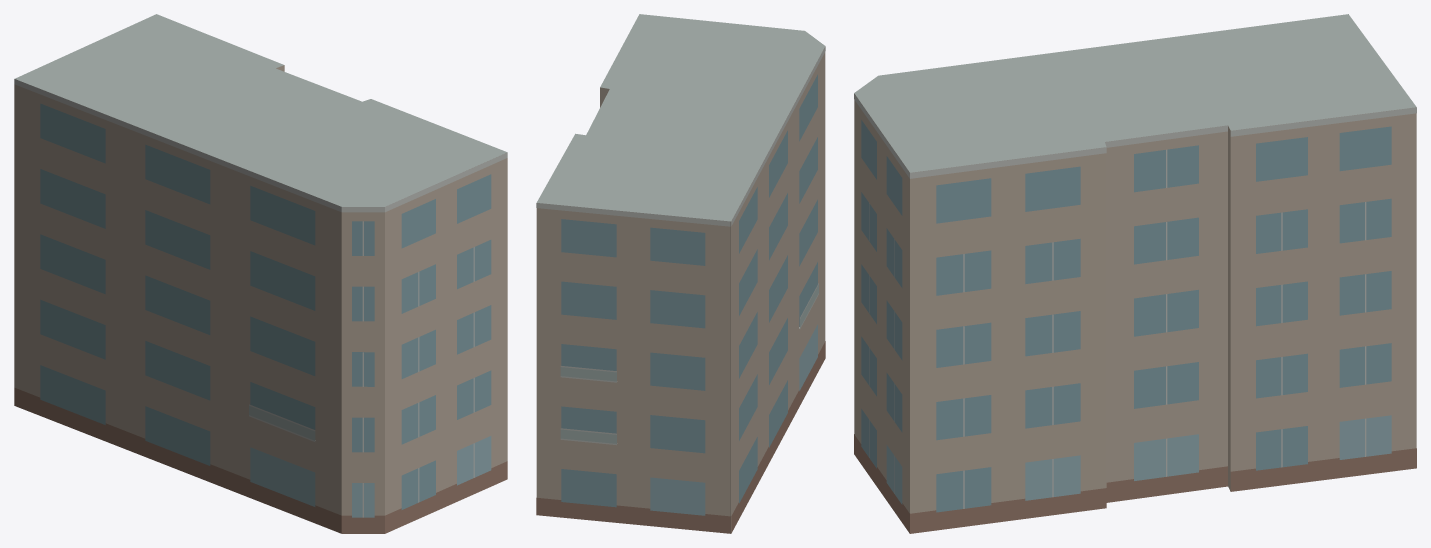
The model's file is survey-upis-32620755.glb.
3 renders of one model, left to right at view 1: azimuth 30°, elevation 25°; view 2: azimuth 150°, elevation 25°; view 3: azimuth 270°, elevation 25°, orthographic. The views are drawn at different scales.
Visible parts, largest first — view 1: survey-upis-32620755.tmp; view 2: survey-upis-32620755.tmp; view 3: survey-upis-32620755.tmp.
Part boxes in pixels (x1=…): survey-upis-32620755.tmp: x1=14, y1=14, x2=507, y2=533; survey-upis-32620755.tmp: x1=536, y1=14, x2=825, y2=533; survey-upis-32620755.tmp: x1=854, y1=14, x2=1416, y2=533.
Bounding box in the file's own units: 13.69 × 14.5 × 20.49.
